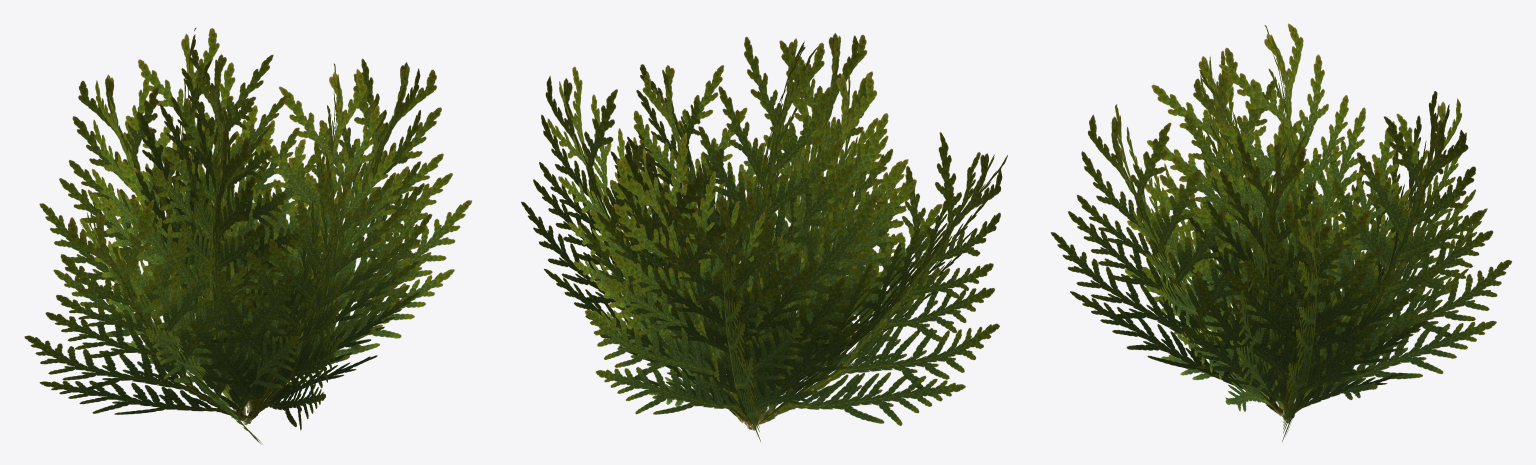
Rendered from grama-01e45262.glb.
3 views of the same model, side by side, from view 1: azimuth 30°, elevation 25°; view 2: azimuth 150°, elevation 25°; view 3: azimuth 270°, elevation 25° (orthographic). The views are drawn at different scales.
Parts seen in each view (by area): view 1: bush_leaf.001_0; view 2: bush_leaf.001_0; view 3: bush_leaf.001_0.
Boxes of the visible parts, x1,y1,x2,y2 form: bush_leaf.001_0: [24, 28, 471, 444]; bush_leaf.001_0: [521, 33, 1007, 441]; bush_leaf.001_0: [1050, 23, 1511, 441].
Size of the model in its own units: 0.5778 by 0.4731 by 0.5205.
Materials: 1 (1 with a texture image).
